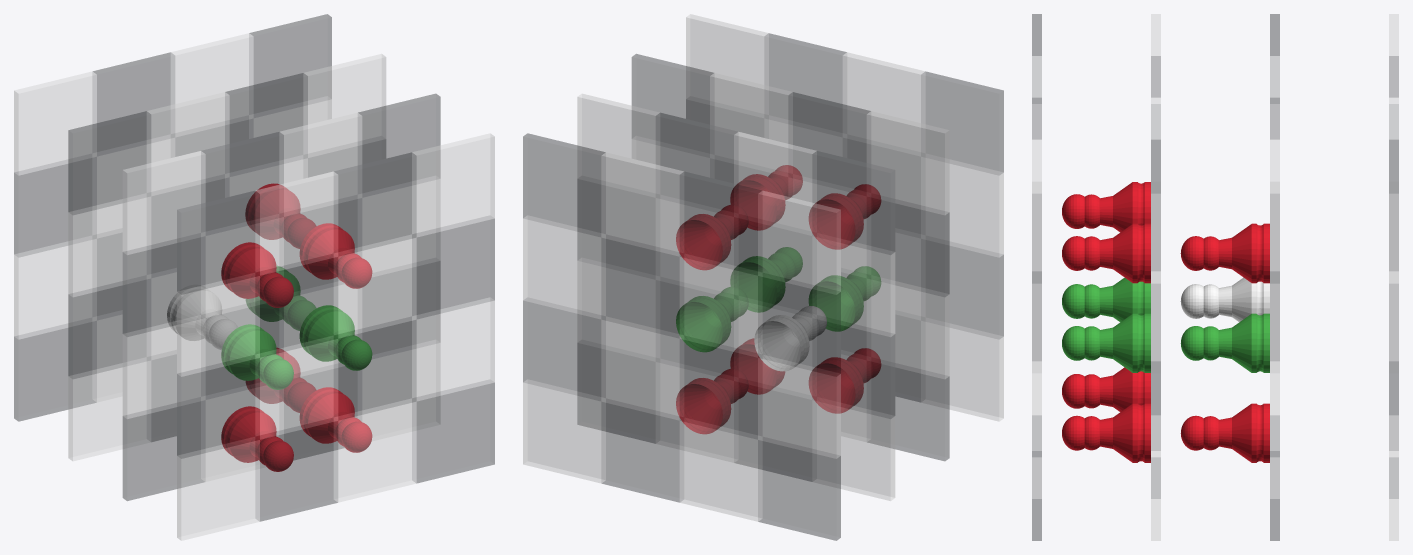
Rendered from tinker.obj.
The picture shows the model from 3 angles, left to right: view 1: azimuth 30°, elevation 25°; view 2: azimuth 150°, elevation 25°; view 3: azimuth 270°, elevation 25°; orthographic projection. The views are drawn at different scales.
Visible parts, largest first — view 1: group_0_-1037357519, group_0_-1023739142, group_0_15277357, group_0_4634441, group_0_16448250; view 2: group_0_-1037357519, group_0_-1023739142, group_0_15277357, group_0_4634441, group_0_16448250; view 3: group_0_15277357, group_0_-1023739142, group_0_-1037357519, group_0_4634441, group_0_16448250.
Part boxes in pixels (<box>): group_0_-1037357519: <box>14,14,494,521</box>; group_0_-1023739142: <box>14,33,494,540</box>; group_0_15277357: <box>221,183,372,471</box>; group_0_4634441: <box>221,266,372,389</box>; group_0_16448250: <box>167,285,237,349</box>; group_0_-1037357519: <box>523,33,1003,540</box>; group_0_-1023739142: <box>523,14,1003,521</box>; group_0_15277357: <box>676,165,880,433</box>; group_0_4634441: <box>676,247,880,351</box>; group_0_16448250: <box>754,306,826,371</box>; group_0_15277357: <box>1062,182,1269,462</box>; group_0_-1023739142: <box>1032,14,1398,540</box>; group_0_-1037357519: <box>1032,14,1398,540</box>; group_0_4634441: <box>1062,277,1269,372</box>; group_0_16448250: <box>1180,277,1269,322</box>.
Bounding box in the file's own units: 40 × 40 × 37.
